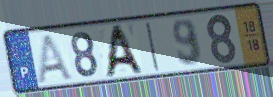8: (205, 12, 238, 66), (69, 30, 100, 79)
9: (171, 17, 204, 69)
A: (102, 23, 146, 79), (35, 32, 76, 84)
I: (144, 20, 162, 74)
